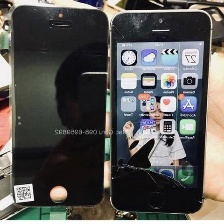phone: (106, 6, 216, 216), (4, 2, 112, 211)
